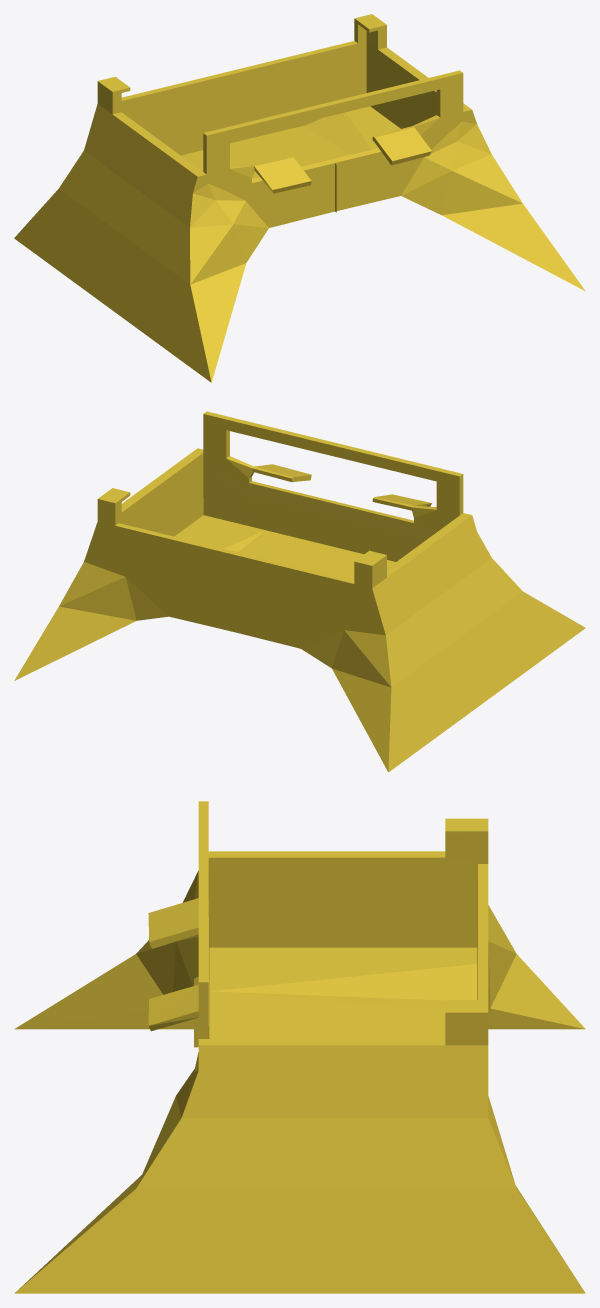
The picture shows the model from 3 angles, top to bottom: view 1: azimuth 30°, elevation 25°; view 2: azimuth 150°, elevation 25°; view 3: azimuth 270°, elevation 25°; orthographic projection. The views are drawn at different scales.
Parts seen in each view (by area): view 1: Cube.011; view 2: Cube.011; view 3: Cube.011.
Part boxes in pixels (x1,y1,x2,y2): Cube.011: [14, 14, 585, 382]; Cube.011: [14, 411, 585, 772]; Cube.011: [14, 801, 585, 1293].
Bounding box in the file's own units: 3.42 × 3.13 × 1.63.
